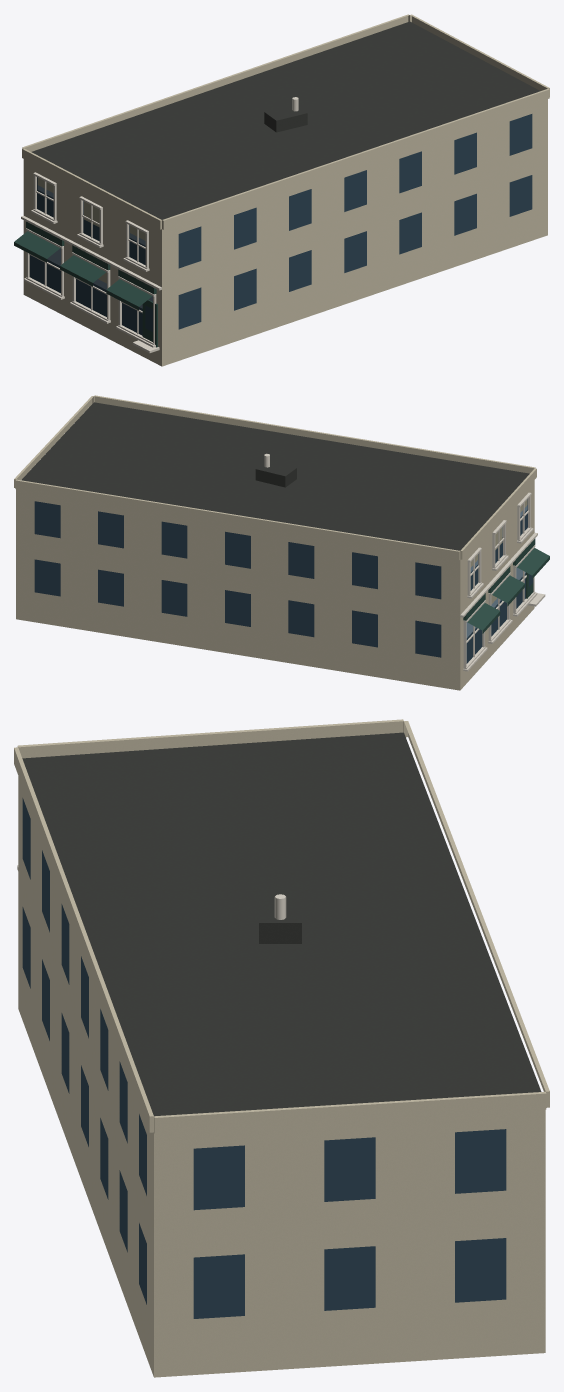
The picture shows the model from 3 angles, top to bottom: view 1: azimuth 30°, elevation 25°; view 2: azimuth 150°, elevation 25°; view 3: azimuth 270°, elevation 25°; orthographic projection. The views are drawn at different scales.
Parts seen in each view (by area): view 1: Footprint 0 / surface 2, Footprint 0 / surface 1, Inset glazing, Facade bay volumes, Cornices and window frames, Storefronts and doors, Interior blind variation, Sky reflection panels; view 2: Footprint 0 / surface 2, Footprint 0 / surface 1, Inset glazing, Facade bay volumes, Cornices and window frames, Storefronts and doors, Inferred rooftop service enclosure / surface 6; view 3: Footprint 0 / surface 1, Footprint 0 / surface 2, Inset glazing, Facade bay volumes, Inferred rooftop service enclosure / surface 3, Inferred rooftop service enclosure / surface 1.
Part boxes in pixels (left/top/right/bottom): Footprint 0 / surface 2: left=23, top=99, right=547, bottom=366; Footprint 0 / surface 1: left=31, top=21, right=540, bottom=219; Inset glazing: left=29, top=114, right=532, bottom=335; Facade bay volumes: left=22, top=14, right=549, bottom=229; Cornices and window frames: left=21, top=172, right=161, bottom=353; Storefronts and doors: left=14, top=221, right=157, bottom=347; Interior blind variation: left=37, top=177, right=145, bottom=283; Sky reflection panels: left=37, top=185, right=152, bottom=308; Footprint 0 / surface 2: left=16, top=480, right=534, bottom=690; Footprint 0 / surface 1: left=21, top=402, right=529, bottom=550; Inset glazing: left=34, top=499, right=533, bottom=663; Facade bay volumes: left=14, top=395, right=536, bottom=560; Cornices and window frames: left=460, top=492, right=545, bottom=671; Storefronts and doors: left=463, top=538, right=549, bottom=633; Inferred rooftop service enclosure / surface 6: left=255, top=469, right=285, bottom=487; Footprint 0 / surface 1: left=22, top=732, right=541, bottom=1116; Footprint 0 / surface 2: left=18, top=776, right=545, bottom=1377; Inset glazing: left=22, top=798, right=506, bottom=1318; Facade bay volumes: left=14, top=719, right=549, bottom=1134; Inferred rooftop service enclosure / surface 3: left=259, top=895, right=301, bottom=922; Inferred rooftop service enclosure / surface 1: left=259, top=923, right=301, bottom=943.
Bounding box in the file's own units: 27.21 × 9.01 × 14.99.
